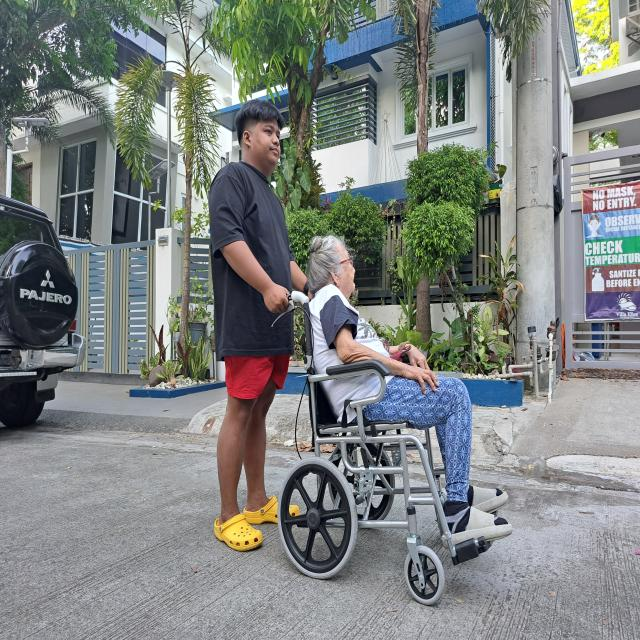wheelchairs: (273, 285, 498, 610)
